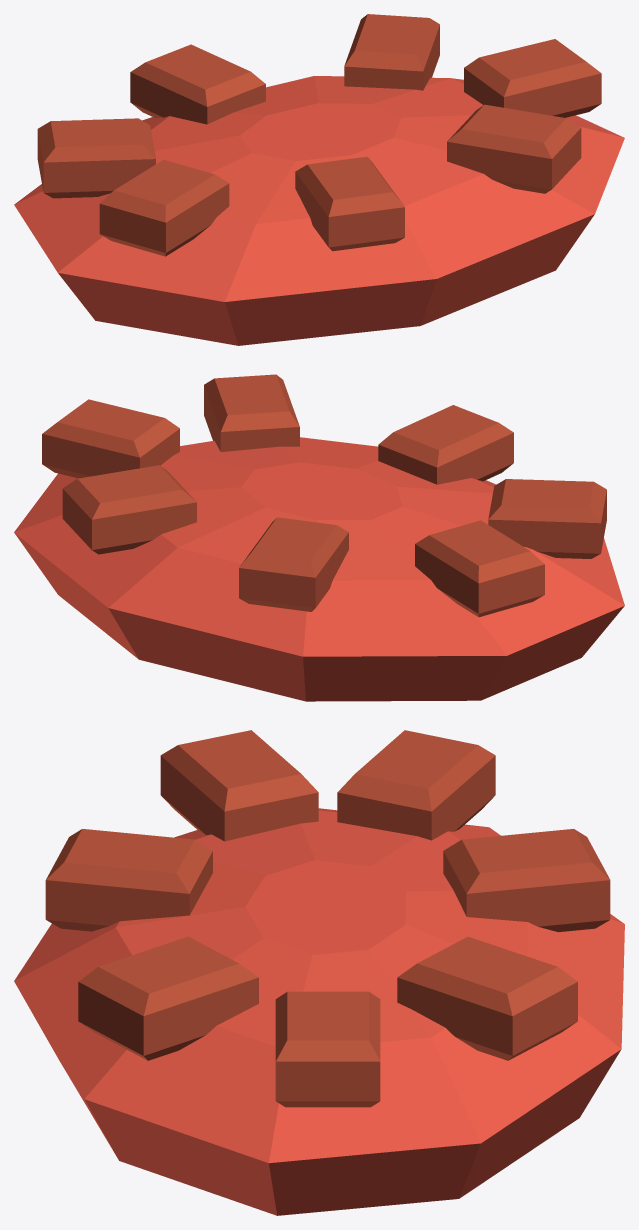
Rendered from scoop_r.obj.
3 renders of one model, top to bottom at view 1: azimuth 30°, elevation 25°; view 2: azimuth 150°, elevation 25°; view 3: azimuth 270°, elevation 25°, orthographic. The views are drawn at different scales.
Parts seen in each view (by area): view 1: scoop_r; view 2: scoop_r; view 3: scoop_r.
Boxes of the visible parts, x1,y1,x2,y2 form: scoop_r: [14, 14, 624, 345]; scoop_r: [14, 374, 624, 701]; scoop_r: [14, 730, 624, 1215].
Size of the model in its own units: 0.3171 by 0.0914 by 0.2277.
